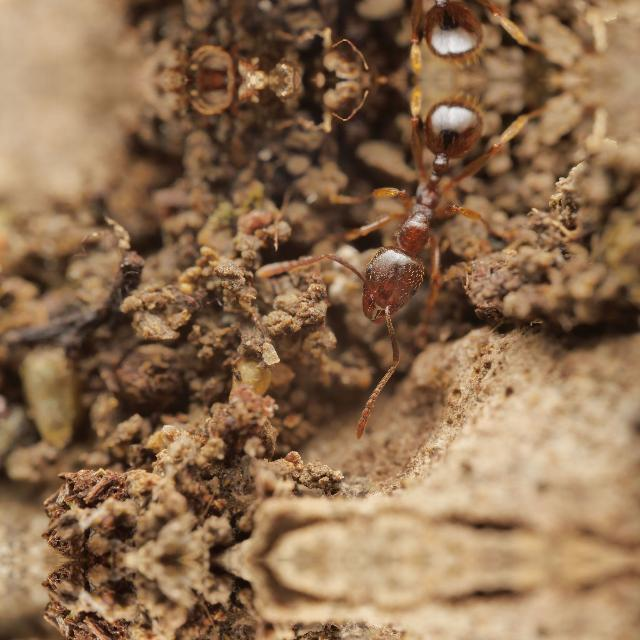Apheanogaster: (295, 80, 525, 350), (295, 0, 525, 80)
